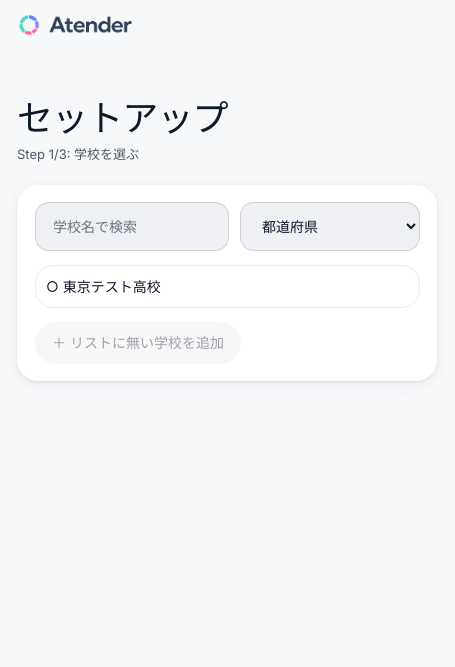
Test: [S] onboarding › [S9] skip -> Step 4/4 without 取り込む時間割
Expected: the text "Step 1/3: 学校を選ぶ" is shown, [17,146,139,162]
What coordinates should you click on to do the following:
click the button "○ 東京テスト高校"
I would click on:
 (112, 286)
Its box is [34,265,420,308].
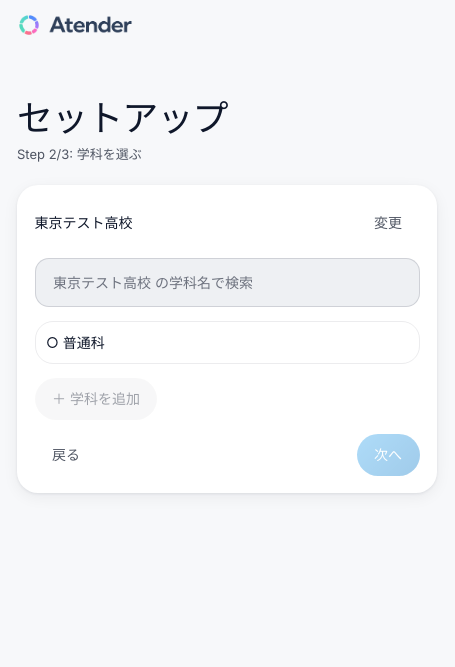
Result: the text "Step 2/3: 学科を選ぶ" is shown at [17,146,142,162]
What coordinates should you click on to do the following:
click the button "○ 普通科"
I would click on:
 (84, 342)
Its box is [34,321,420,364].
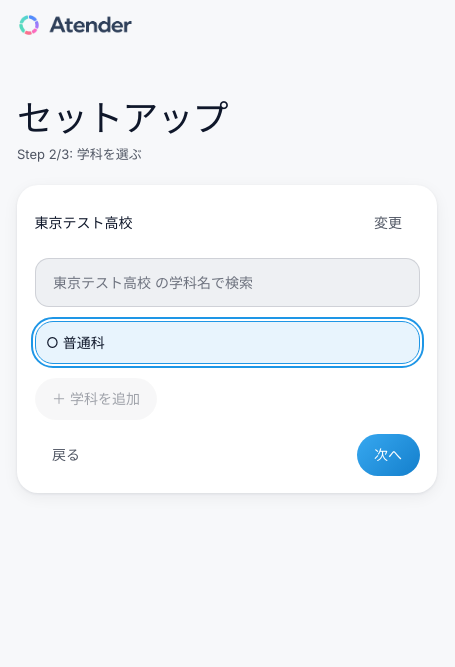
What coordinates should you click on to do the following:
click the button "次へ"
I would click on:
 (388, 455)
Its box is [356,434,420,476].
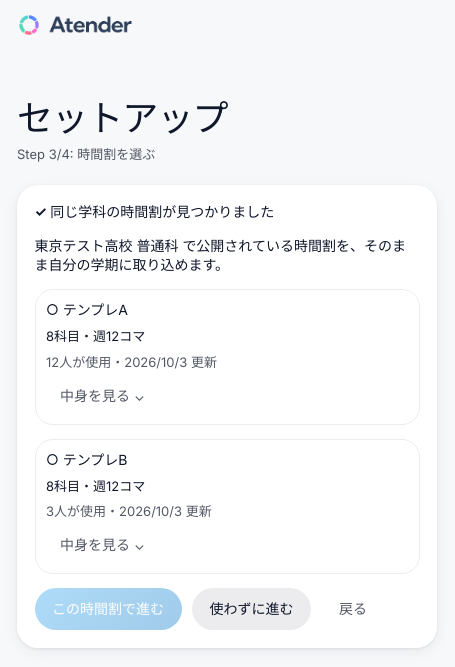
Result: the text "Step 3/4: 時間割を選ぶ" is shown at [17,146,155,162]
What coordinates should you click on to do the following:
click the button with test id "setup-template-skip"
I would click on:
 (252, 609)
Its box is [192,588,311,630].
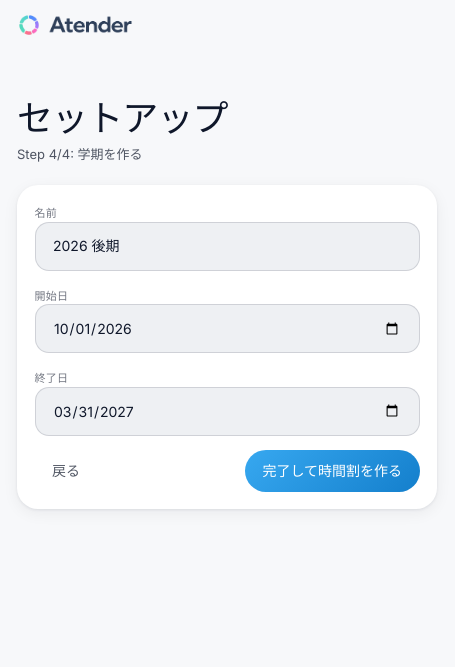
Result: the text "Step 4/4: 学期を作る" is shown at [17,146,142,162]
